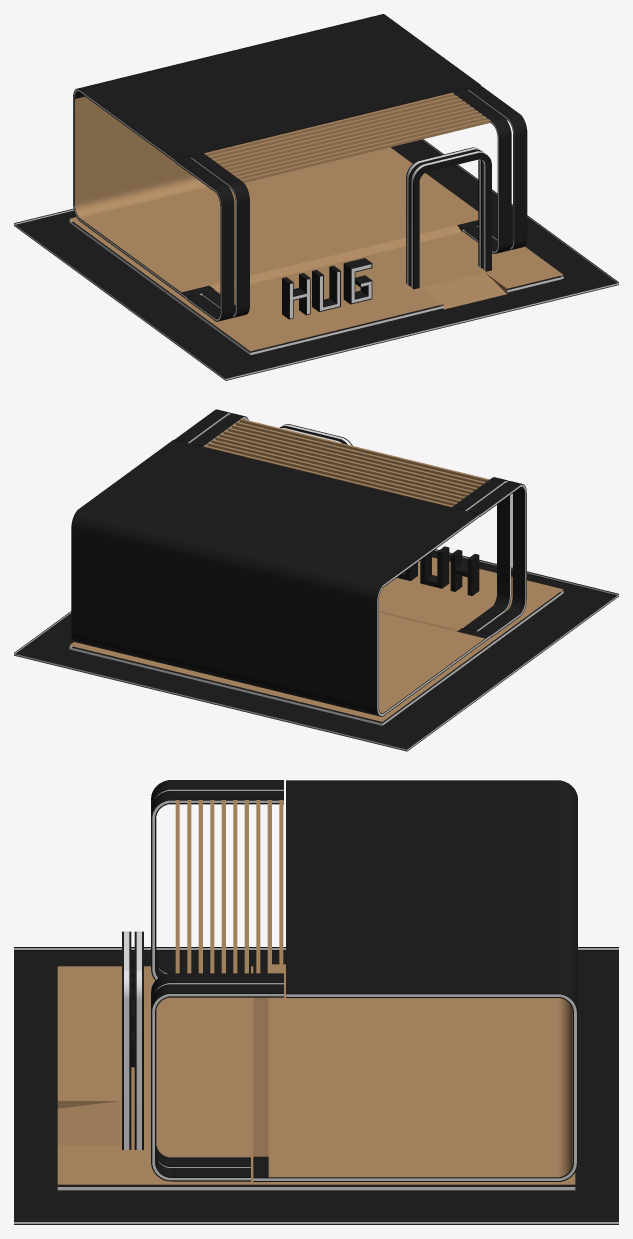
Rendered from Cube-Presentation-Projet-Doceo.fbx.
3 views of the same model, one above another, from view 1: azimuth 30°, elevation 25°; view 2: azimuth 150°, elevation 25°; view 3: azimuth 270°, elevation 25° (orthographic). The views are drawn at different scales.
Visible parts, largest first — view 1: Stand-Soins-01, Lettre-G, Lettre-U, Lettre-H; view 2: Stand-Soins-01, Lettre-H, Lettre-U; view 3: Stand-Soins-01.
Part boxes in pixels (bbox=[...]): Stand-Soins-01: bbox=[14, 14, 618, 380]; Lettre-G: bbox=[343, 258, 372, 304]; Lettre-U: bbox=[312, 265, 340, 311]; Lettre-H: bbox=[282, 273, 310, 319]; Stand-Soins-01: bbox=[14, 409, 618, 751]; Lettre-H: bbox=[450, 549, 479, 595]; Lettre-U: bbox=[420, 546, 449, 588]; Stand-Soins-01: bbox=[14, 780, 618, 1224].
Size of the model in its own units: 859 by 295 by 801.
